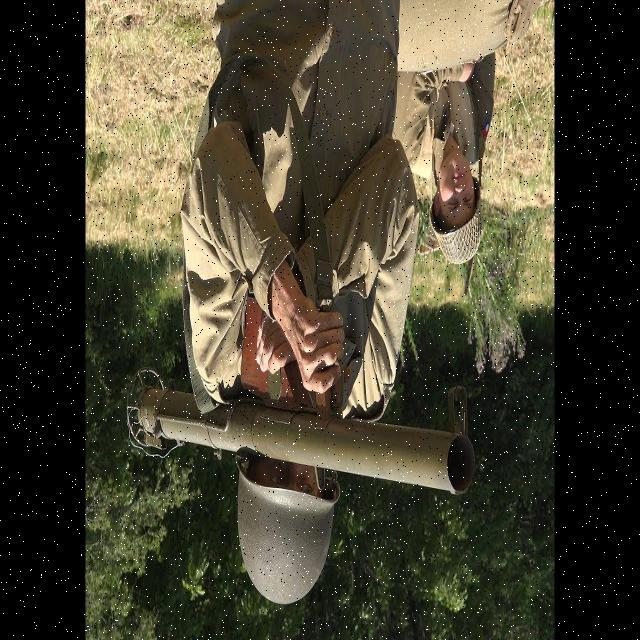bazooka: (121, 358, 481, 513)
